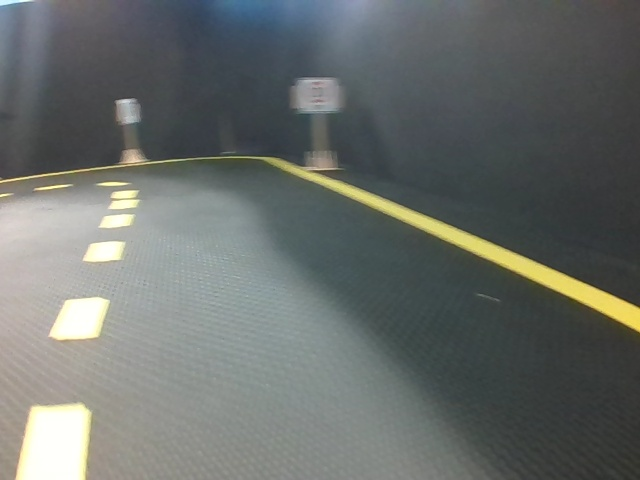30: (300, 78, 335, 113)
no30: (116, 99, 136, 124)
